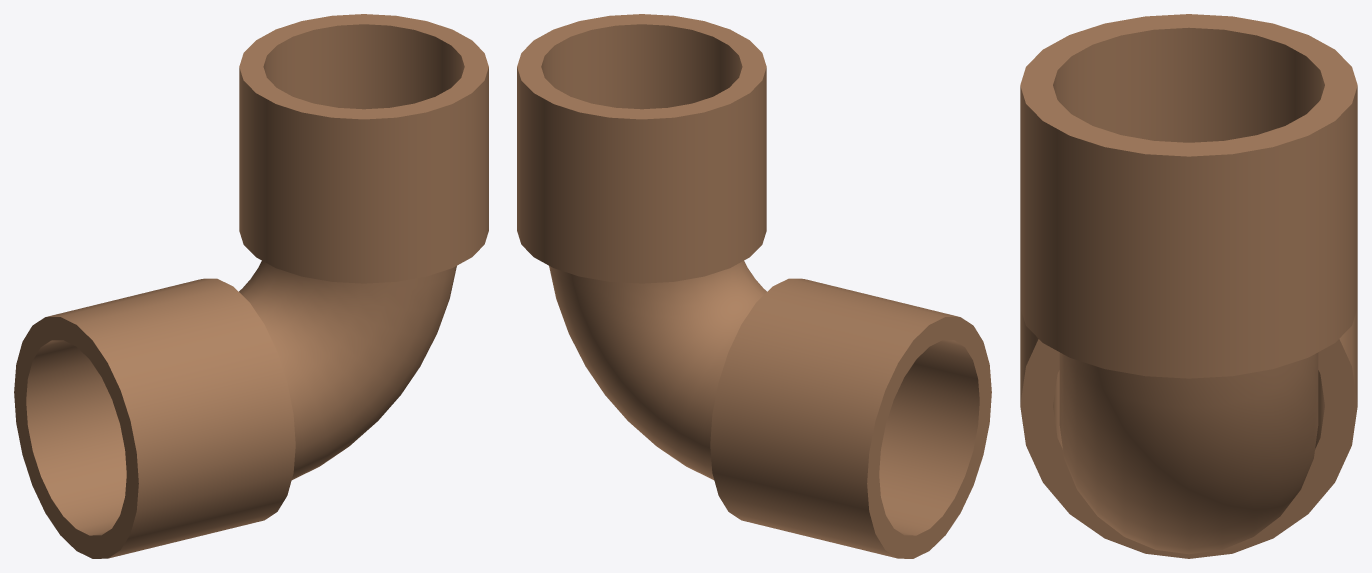
File: HID-CNX-001.glb
3 views of the same model, side by side, from view 1: azimuth 30°, elevation 25°; view 2: azimuth 150°, elevation 25°; view 3: azimuth 270°, elevation 25° (orthographic). The views are drawn at different scales.
Parts seen in each view (by area): view 1: HID-CNX-001_bolsa1, HID-CNX-001_bolsa2, HID-CNX-001_curva; view 2: HID-CNX-001_bolsa1, HID-CNX-001_bolsa2, HID-CNX-001_curva; view 3: HID-CNX-001_bolsa2, HID-CNX-001_curva, HID-CNX-001_bolsa1.
Part boxes in pixels (x1,y1,x2,y2): HID-CNX-001_bolsa1: [14, 278, 295, 558]; HID-CNX-001_bolsa2: [239, 14, 488, 283]; HID-CNX-001_curva: [239, 261, 456, 479]; HID-CNX-001_bolsa1: [710, 278, 991, 558]; HID-CNX-001_bolsa2: [517, 14, 766, 283]; HID-CNX-001_curva: [549, 261, 766, 479]; HID-CNX-001_bolsa2: [1020, 14, 1357, 378]; HID-CNX-001_curva: [1059, 352, 1318, 554]; HID-CNX-001_bolsa1: [1020, 308, 1357, 558].
Size of the model in its own units: 0.0567 by 0.0568 by 0.031.
